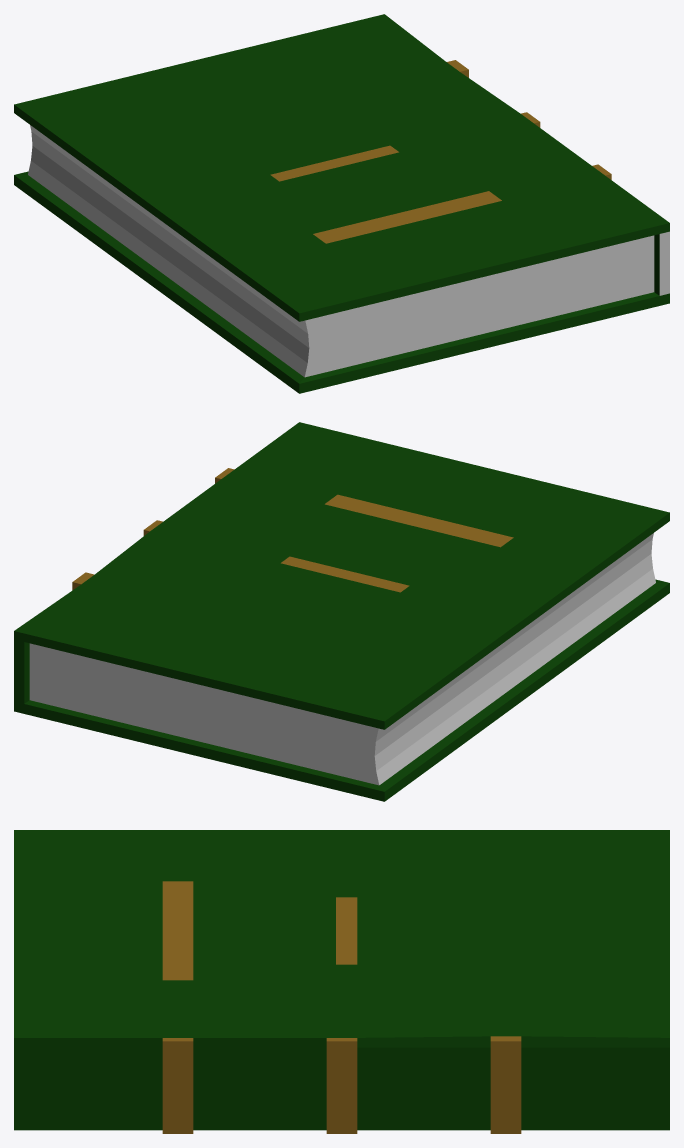
File: book.obj
The picture shows the model from 3 angles, top to bottom: view 1: azimuth 30°, elevation 25°; view 2: azimuth 150°, elevation 25°; view 3: azimuth 270°, elevation 25°; orthographic projection. The views are drawn at different scales.
Parts seen in each view (by area): view 1: Cube.003_Cube; view 2: Cube.003_Cube; view 3: Cube.003_Cube.
Boxes of the visible parts, x1,y1,x2,y2 form: Cube.003_Cube: (14, 14, 669, 393); Cube.003_Cube: (14, 422, 669, 801); Cube.003_Cube: (14, 830, 669, 1133).
Bounding box in the file's own units: 0.8695 × 0.1774 × 1.14.
